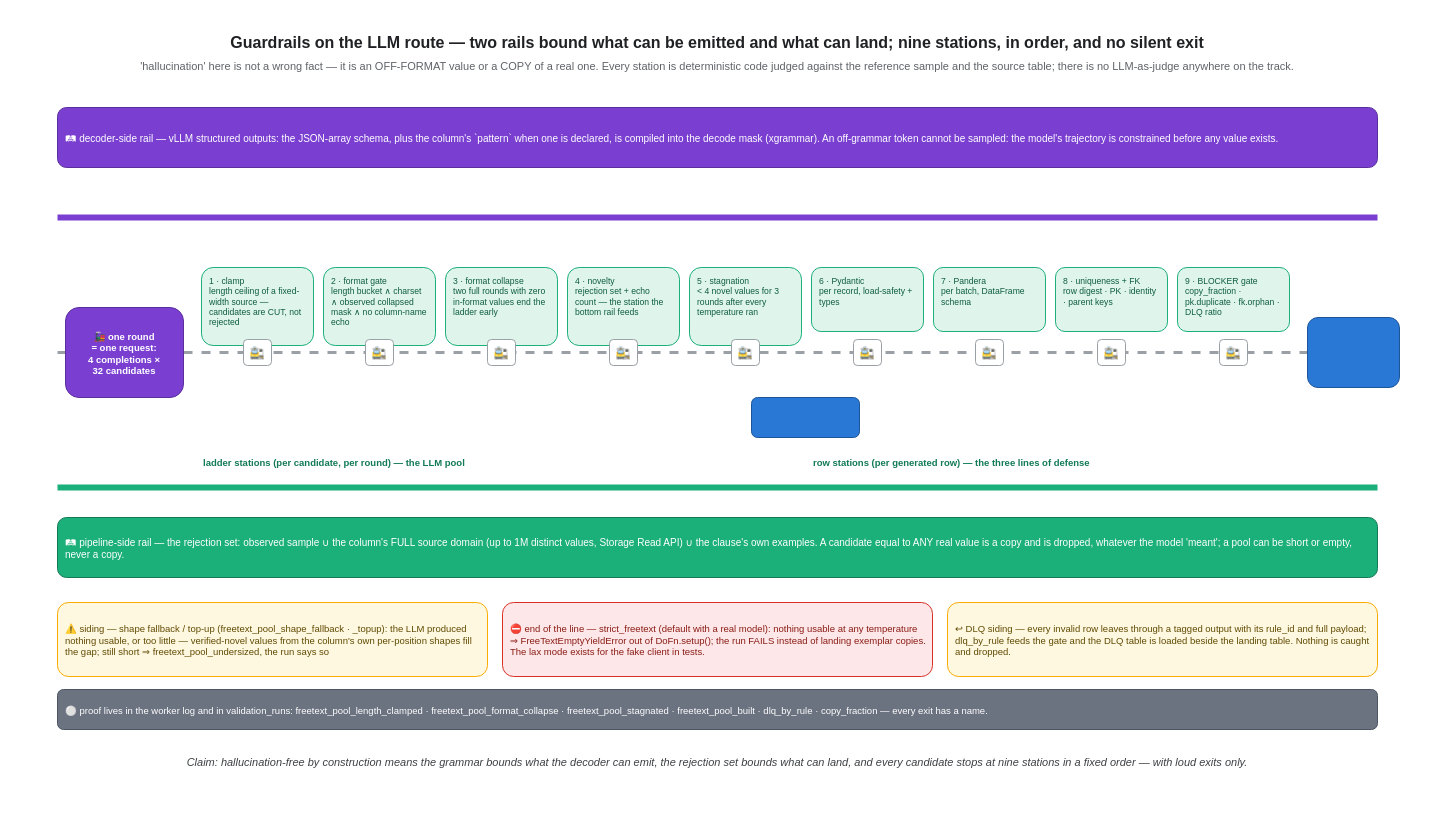
This 1434x834 diagram has some shape labels left out. The centre of each missing label's shape, as x and y in pixels:
"🏁 landing table" belongs at (1353,352).
"🗄️ pool persisted (freetext_pools)" belongs at (805,417).
